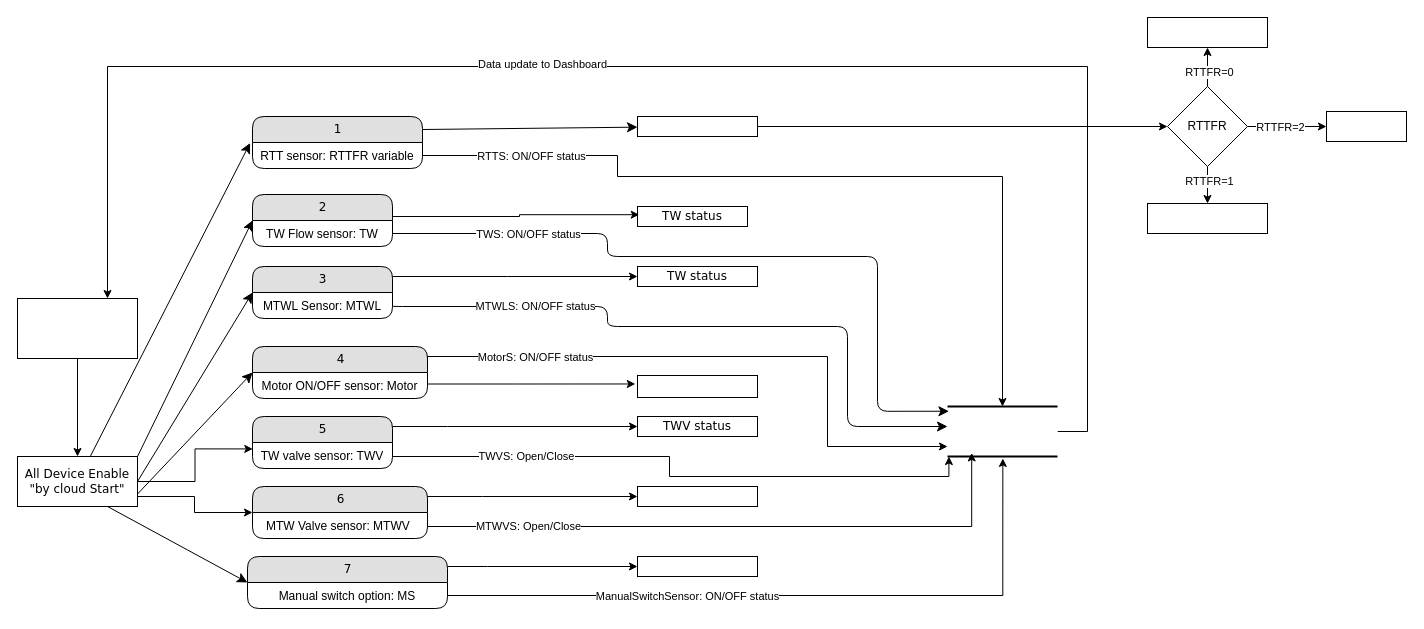
Some shapes in this 1424 by 629 pixel diagram are drawn without their labels. Each missing label, with the box of its shape:
Dashboard Control Options: (16, 298, 138, 358)
Database: (946, 405, 1058, 457)
Motor status: (636, 374, 758, 398)
MS status: (636, 556, 758, 576)
MTWV status: (636, 486, 758, 506)
RTTFR status: (636, 116, 758, 136)
